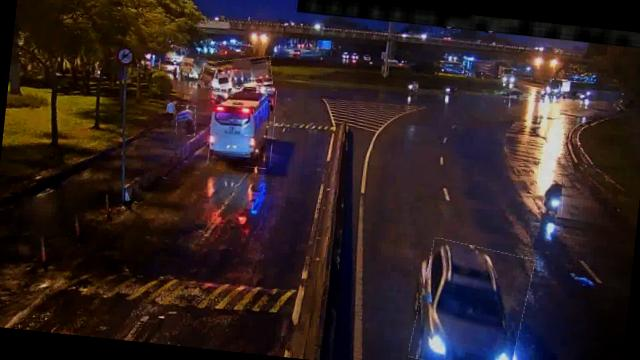Bike: (542, 178, 565, 215), (174, 104, 197, 136)
Bus: (206, 85, 278, 170), (200, 65, 237, 93)
Car: (410, 239, 533, 360)
Truck: (216, 54, 274, 92)
